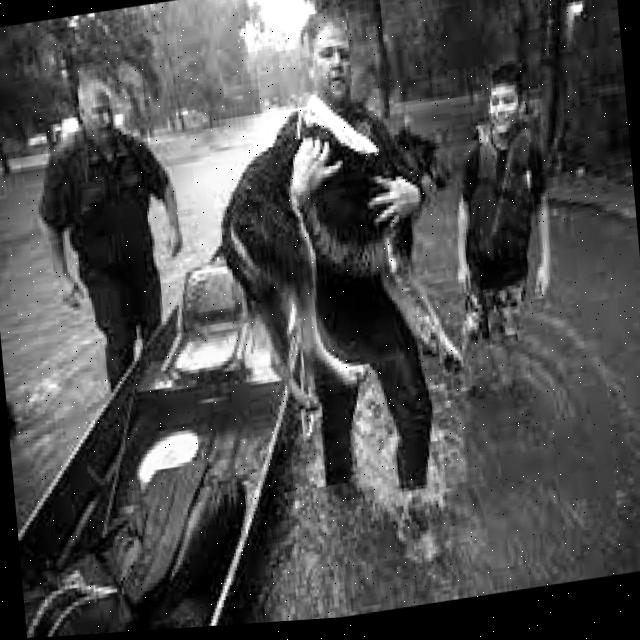civilian: (260, 1, 452, 517), (28, 56, 204, 410), (430, 47, 572, 384)
dog: (216, 108, 474, 405)
